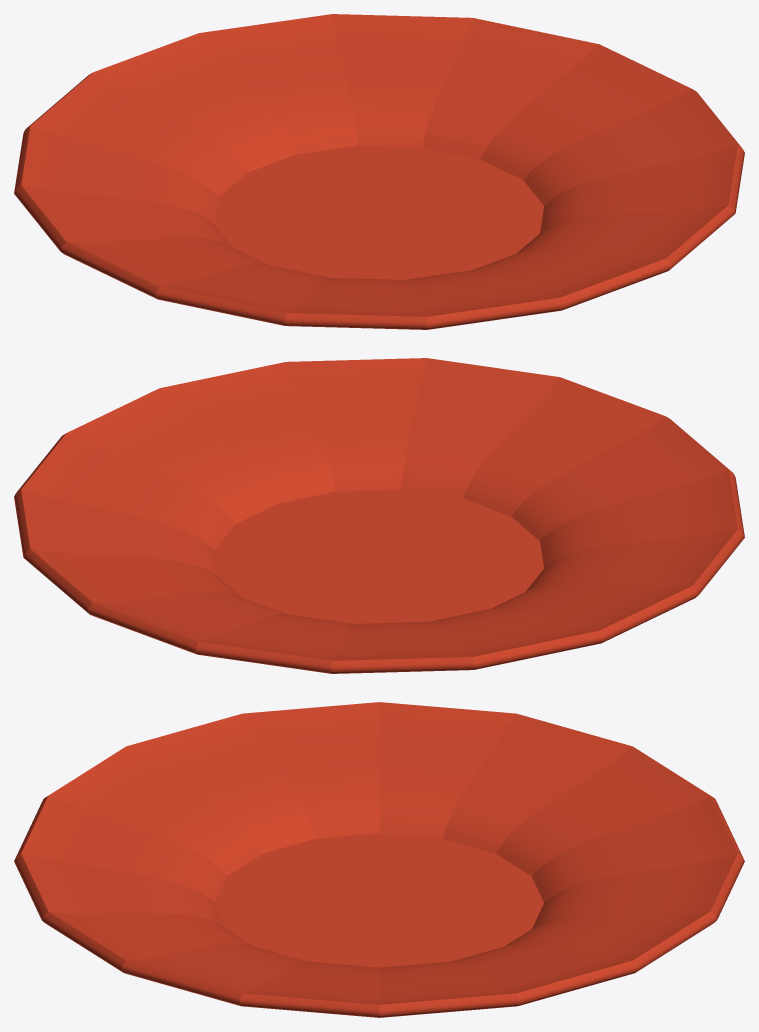
3 views of the same model, one above another, from view 1: azimuth 30°, elevation 25°; view 2: azimuth 150°, elevation 25°; view 3: azimuth 270°, elevation 25° (orthographic).
Visible parts, largest first — view 1: outer; view 2: outer; view 3: outer.
Part boxes in pixels (x1=…): outer: x1=14, y1=14, x2=744, y2=329; outer: x1=14, y1=358, x2=744, y2=673; outer: x1=14, y1=702, x2=744, y2=1017.
Size of the model in its own units: 0.253 by 0.0235 by 0.253.
